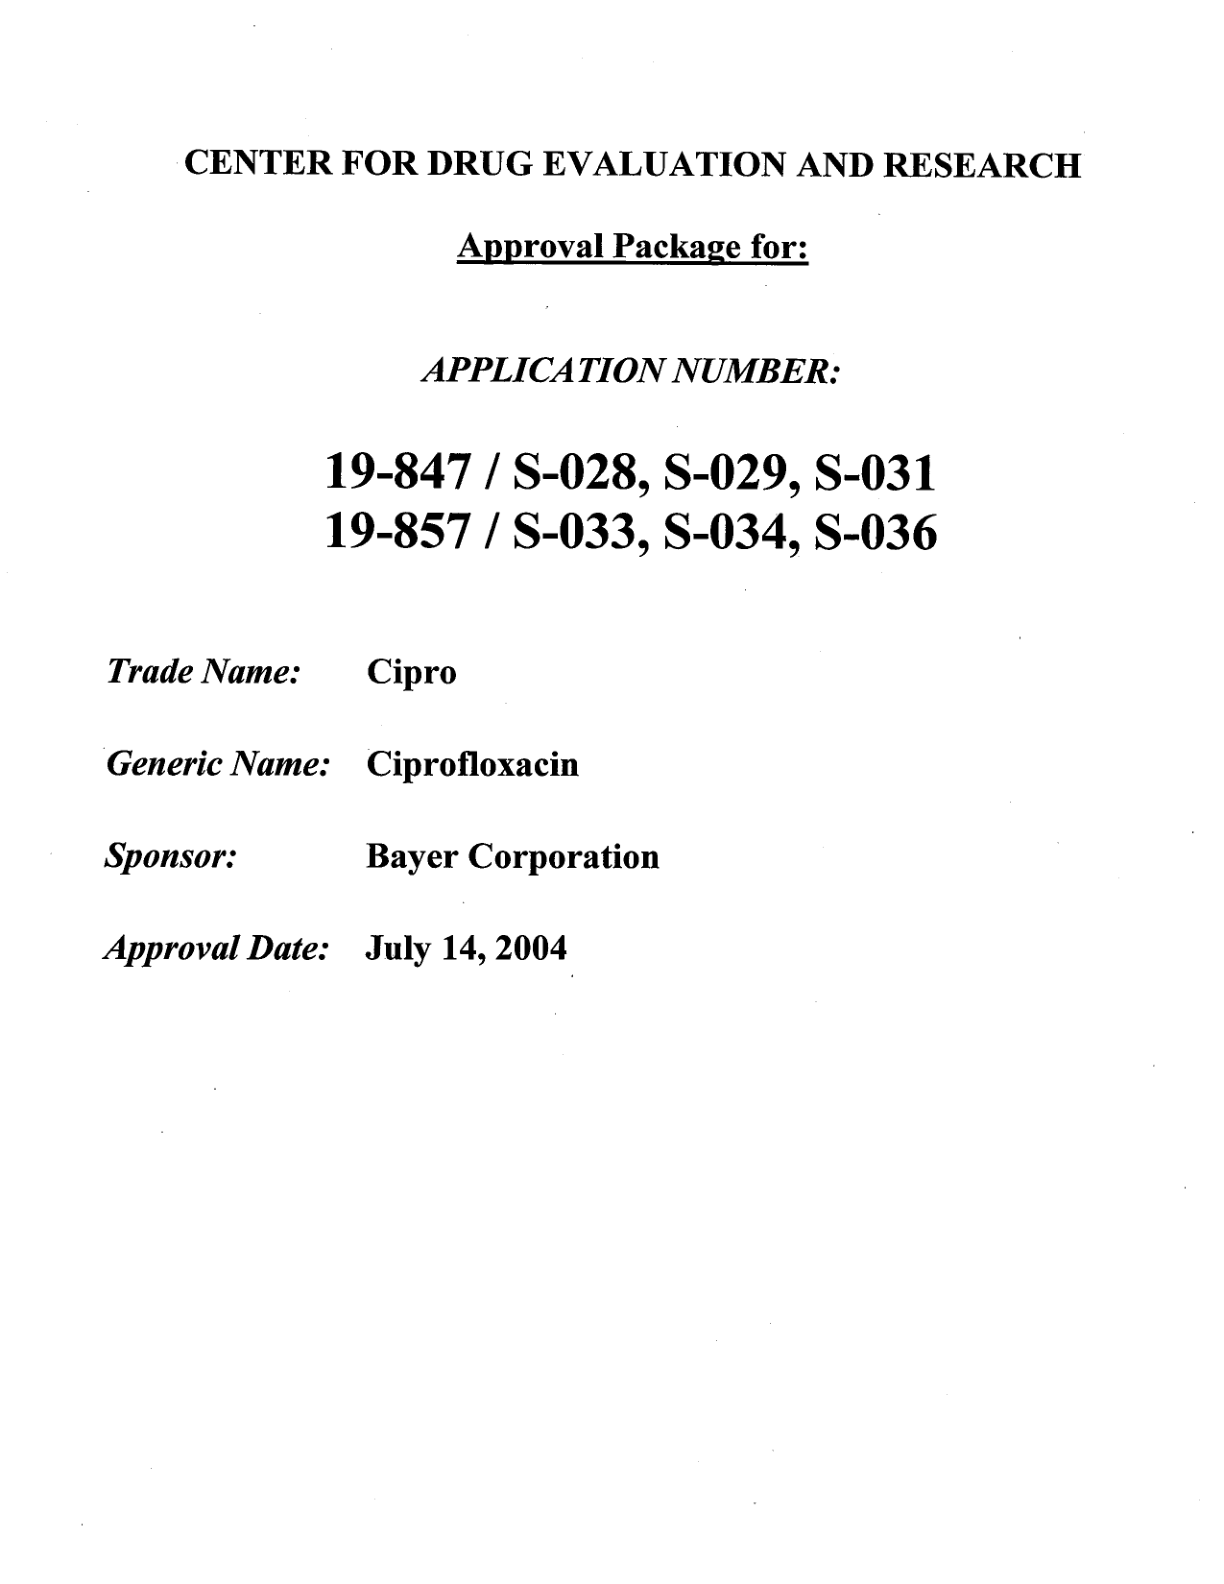nolines: (103, 652, 661, 967)
